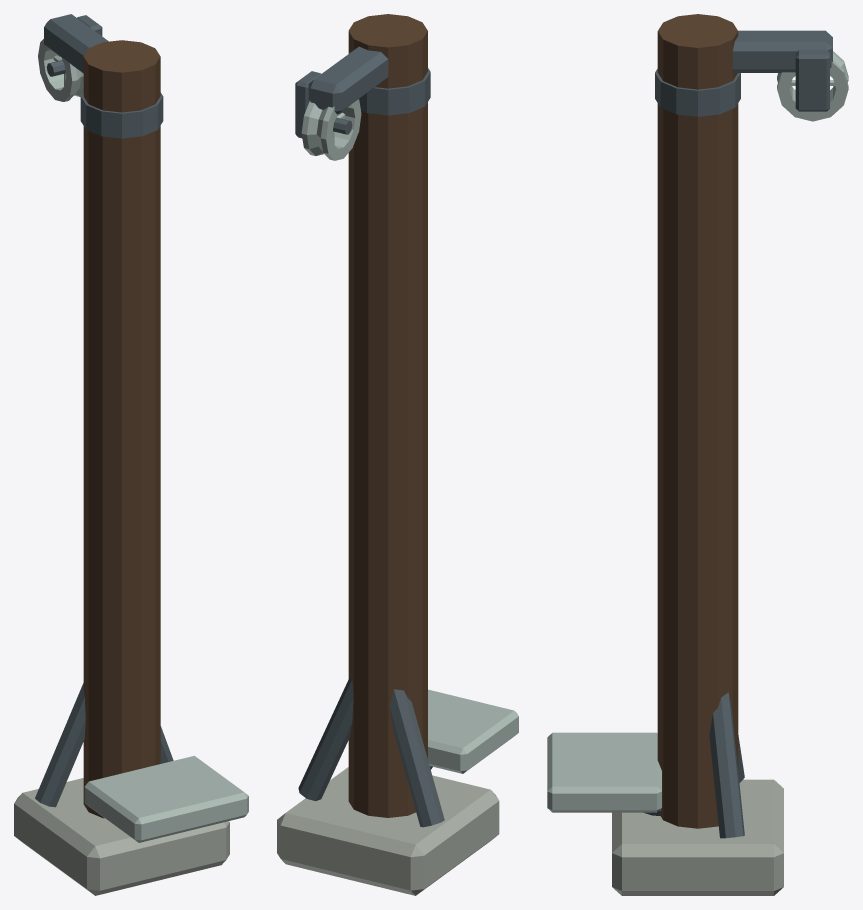
File: zipline_anchor.glb
The picture shows the model from 3 angles, left to right: view 1: azimuth 30°, elevation 25°; view 2: azimuth 150°, elevation 25°; view 3: azimuth 270°, elevation 25°; orthographic projection. The views are drawn at different scales.
Parts seen in each view (by area): view 1: Occlude_Pole_Mesh, Keep_Mesh; view 2: Occlude_Pole_Mesh, Keep_Mesh; view 3: Occlude_Pole_Mesh, Keep_Mesh.
Part boxes in pixels (box(x1,y1,x2,y2)): Occlude_Pole_Mesh: box(38, 14, 163, 583); Keep_Mesh: box(14, 567, 248, 895); Occlude_Pole_Mesh: box(295, 14, 430, 573); Keep_Mesh: box(277, 557, 518, 895); Occlude_Pole_Mesh: box(655, 14, 848, 581); Keep_Mesh: box(547, 565, 783, 895).
Size of the model in its own units: 0.6 by 3.2 by 1.05.
